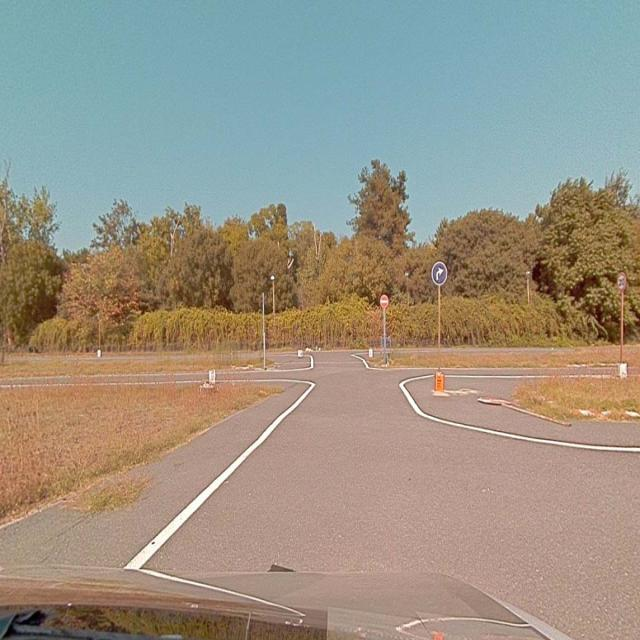20: (618, 274, 626, 290)
girisyok: (381, 295, 388, 309)
sag: (432, 261, 447, 284)
